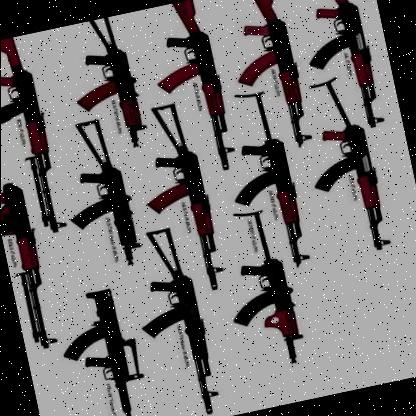rifle: (119, 222, 228, 416), (292, 71, 398, 264), (135, 99, 233, 300), (211, 89, 311, 276), (143, 0, 240, 173), (209, 207, 305, 380), (0, 32, 76, 245), (49, 114, 144, 274), (284, 0, 393, 134), (212, 0, 310, 146), (49, 282, 155, 416), (67, 13, 156, 152), (0, 177, 57, 350)
